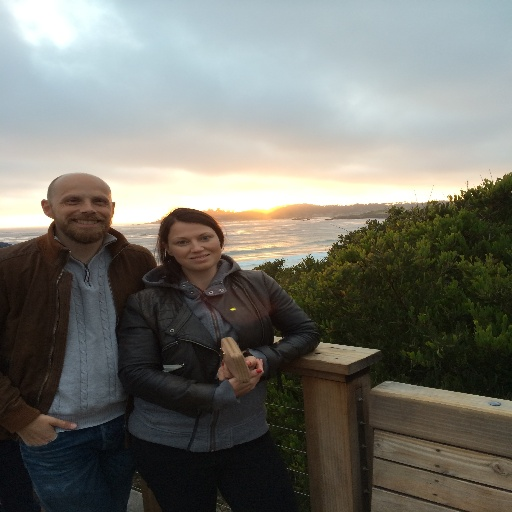hand: (15, 414, 78, 449), (215, 354, 266, 383)
